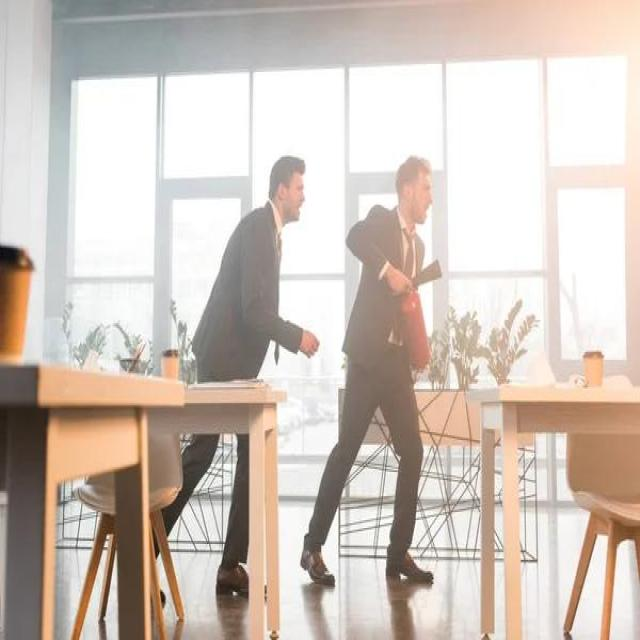fire_extinguisher: (392, 251, 445, 378)
